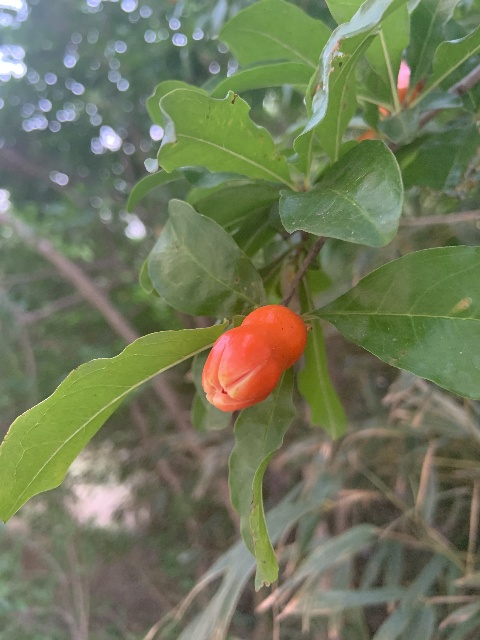bud: (201, 304, 307, 413)
